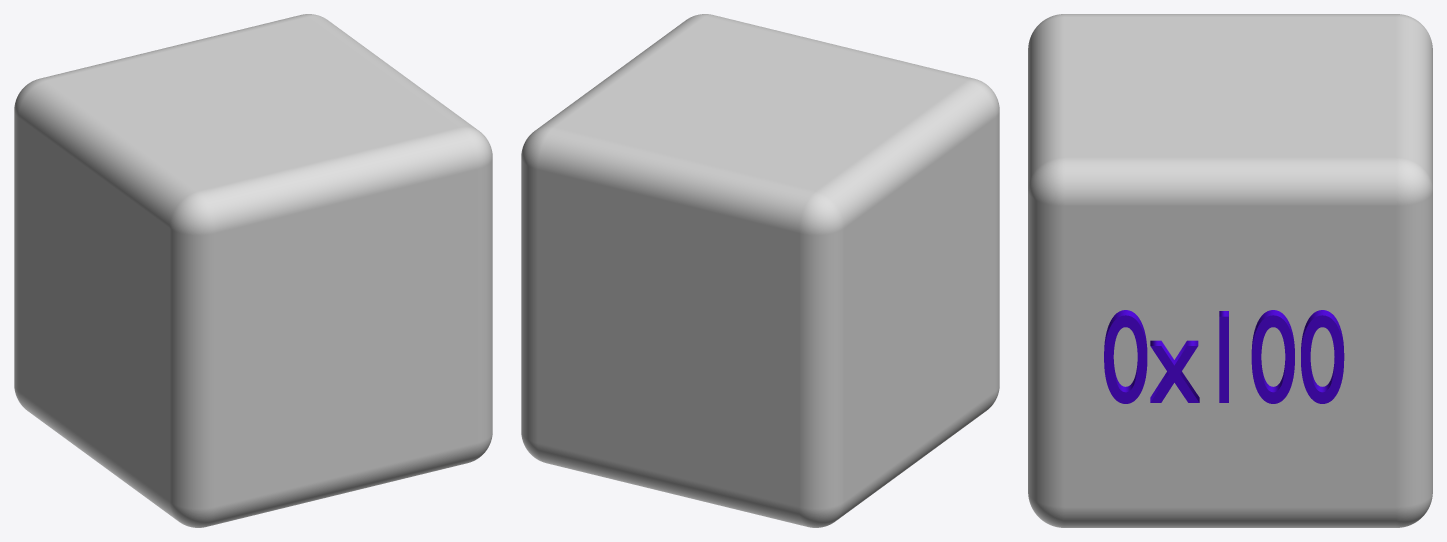
Rendered from Instr11.fbx.
3 views of the same model, side by side, from view 1: azimuth 30°, elevation 25°; view 2: azimuth 150°, elevation 25°; view 3: azimuth 270°, elevation 25° (orthographic). The views are drawn at different scales.
Visible parts, largest first — view 1: Cube; view 2: Cube; view 3: Cube, Text.
Boxes of the visible parts, bbox=[...] form: Cube: bbox=[14, 14, 492, 527]; Cube: bbox=[521, 14, 999, 527]; Cube: bbox=[1028, 14, 1432, 527]; Text: bbox=[1104, 310, 1344, 403].
Bounding box in the file's own units: 69.29 × 67.15 × 67.15.
